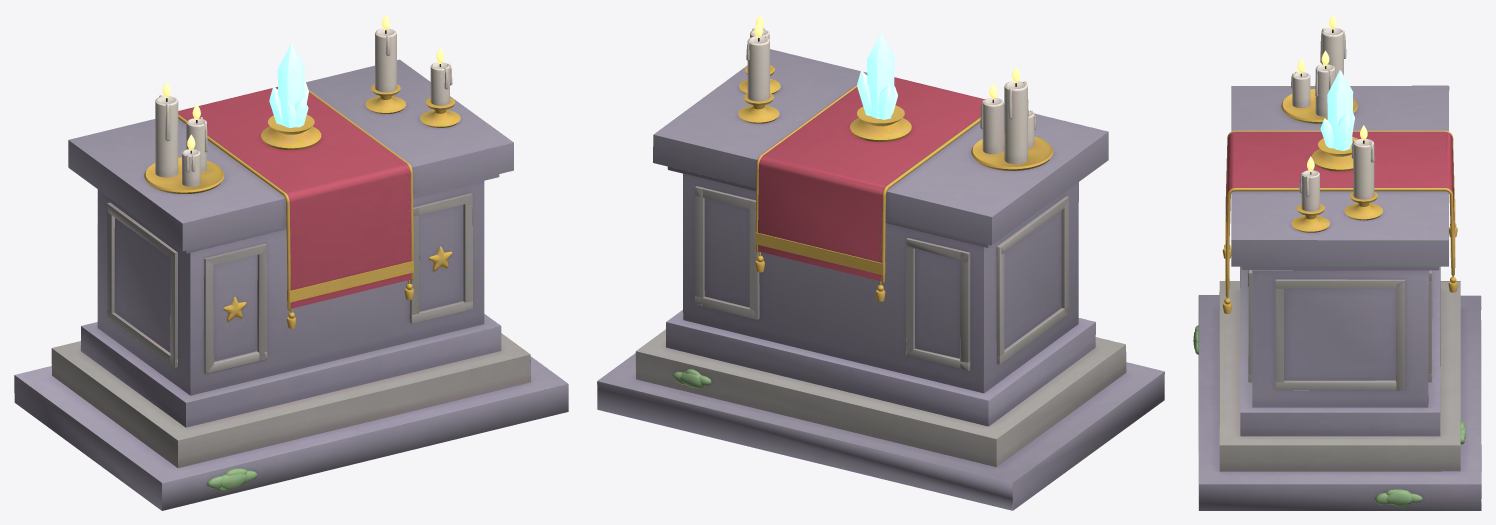
The model's file is altar_piedra.glb.
3 views of the same model, side by side, from view 1: azimuth 30°, elevation 25°; view 2: azimuth 150°, elevation 25°; view 3: azimuth 270°, elevation 25° (orthographic). The views are drawn at different scales.
Parts seen in each view (by area): view 1: stone-altar_body; view 2: stone-altar_body; view 3: stone-altar_body.
Part boxes in pixels (<box>): stone-altar_body: <box>14,14,568,510</box>; stone-altar_body: <box>597,14,1164,510</box>; stone-altar_body: <box>1193,14,1481,510</box>.
Bounding box in the file's own units: 1.54 × 1.3 × 0.979.
3 materials, 1 textured.
